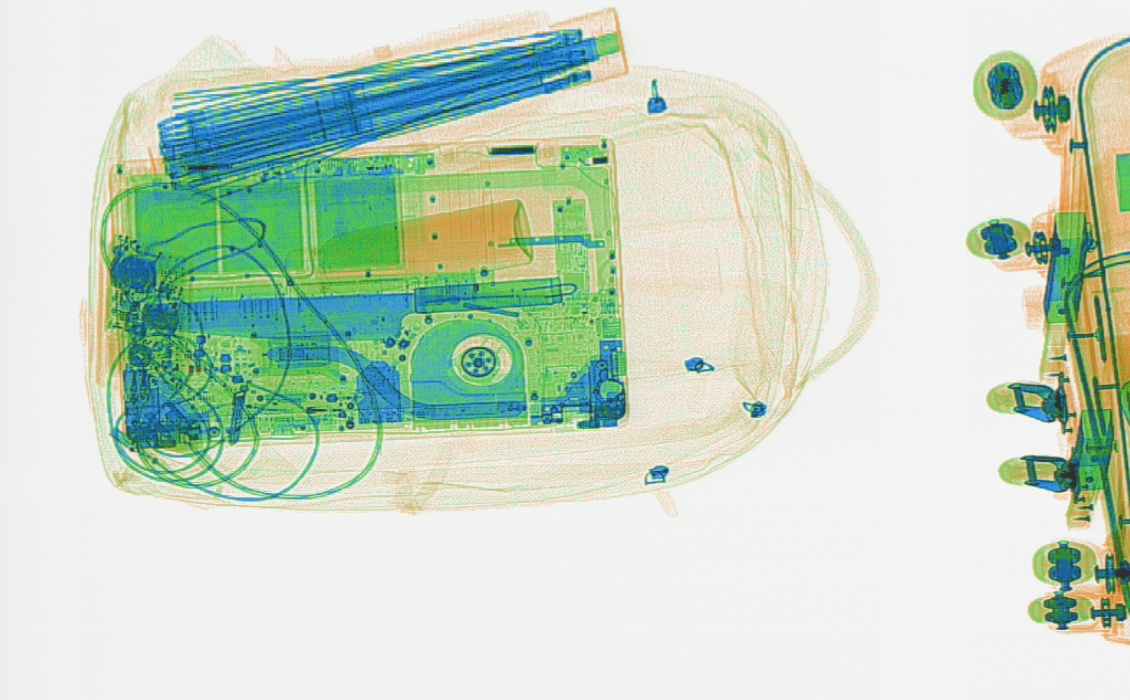knife: (130, 272, 575, 344)
lighter: (264, 389, 378, 423)
pressure: (282, 197, 533, 295)
